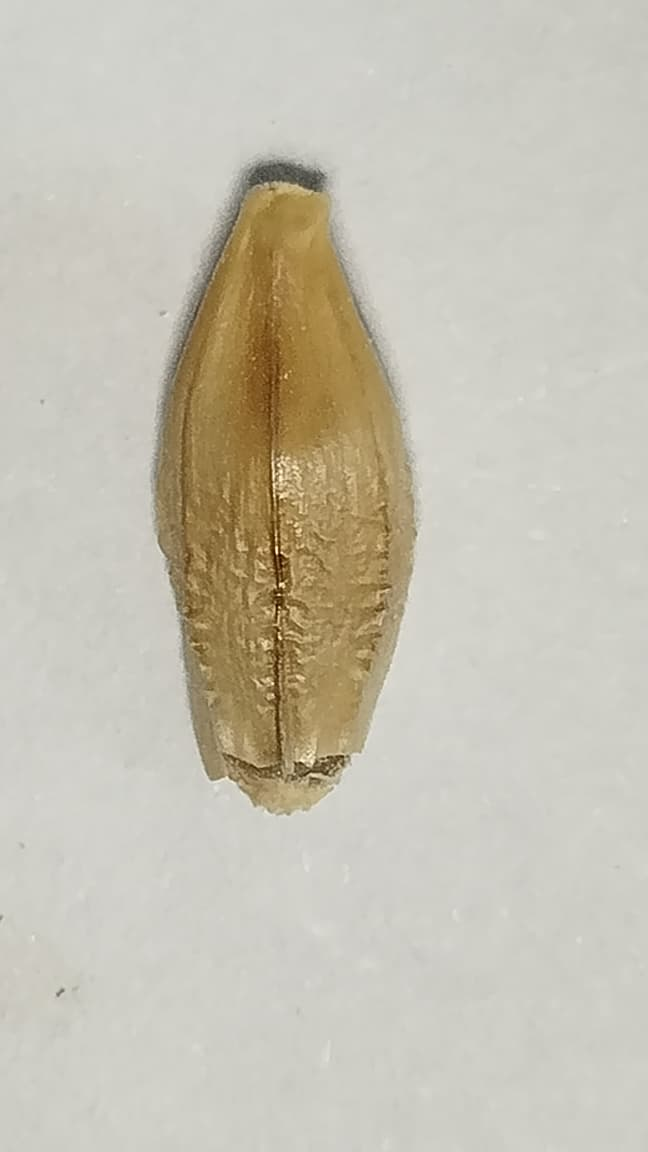healthy-70-60: (161, 185, 413, 798)
insectdamage: (201, 727, 360, 815)
shriveledseed: (170, 490, 414, 705)
